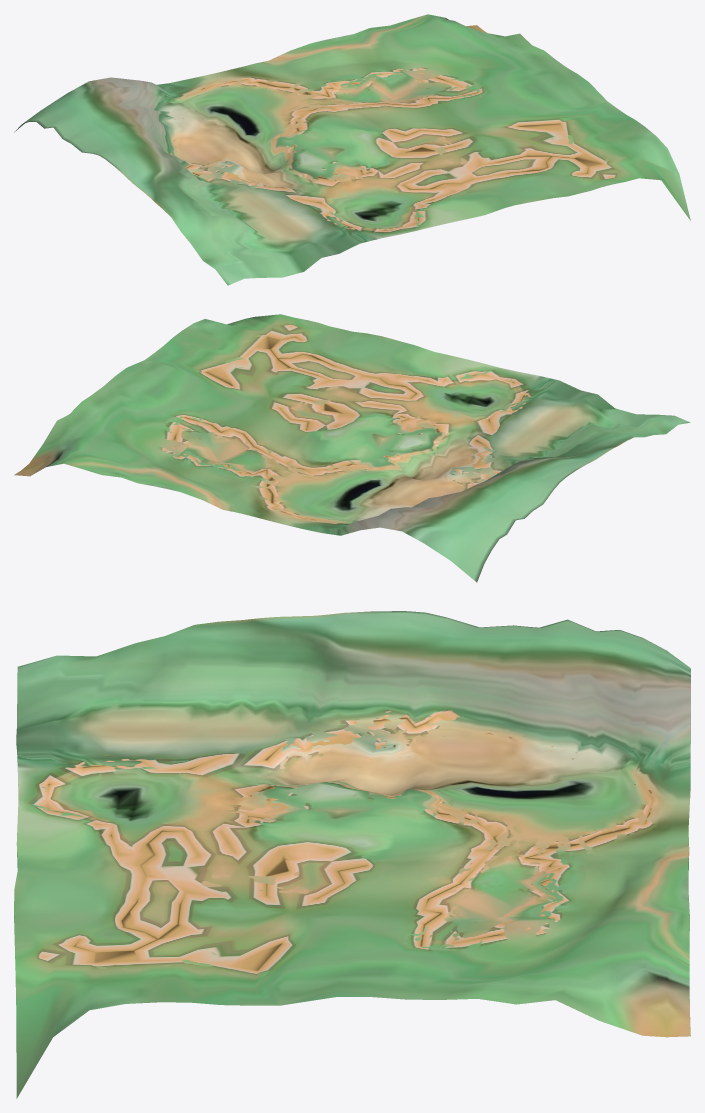
File: river.glb
3 renders of one model, top to bottom at view 1: azimuth 30°, elevation 25°; view 2: azimuth 150°, elevation 25°; view 3: azimuth 270°, elevation 25°, orthographic. The views are drawn at different scales.
Visible parts, largest first — view 1: ground; view 2: ground; view 3: ground.
Boxes of the visible parts, x1=… form: ground: x1=14, y1=14, x2=690, y2=285; ground: x1=14, y1=314, x2=690, y2=582; ground: x1=14, y1=611, x2=690, y2=1098.
Size of the model in its own units: 100 by 17.42 by 80.45.
Materials: 1 (1 with a texture image).
